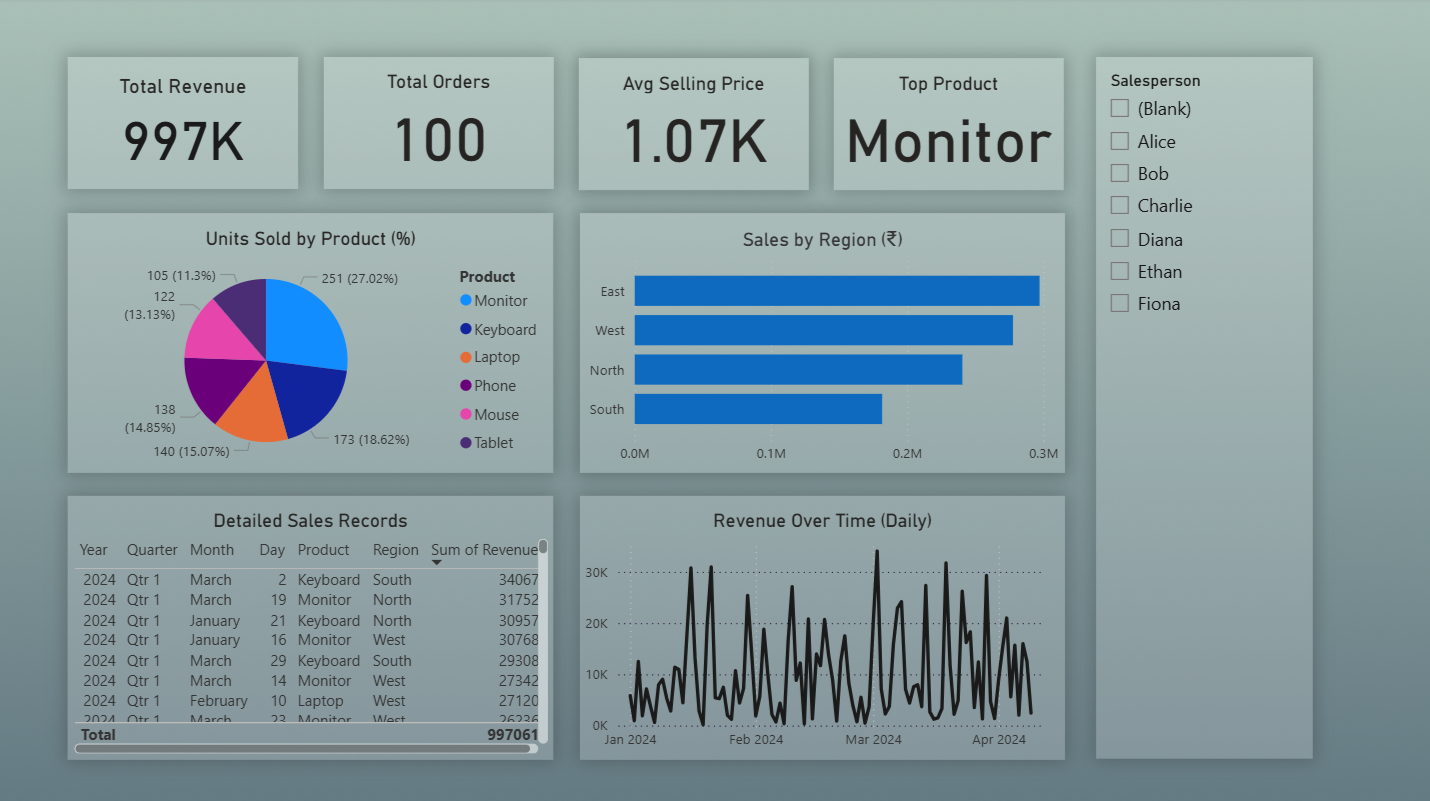

What the dashboard file says about the page in this screenshot:
{"tool":"powerbi","page":{"name":"Page 1","canvas":[1280,720],"ordinal":0},"visuals":[{"type":"clusteredBarChart","title":"Sales by Region (₹)","fields":{"Category":["Sheet1.Region"],"Y":["Sheet1.Revenue"]},"box":[521,192.6,431.9,231.5],"z":0},{"type":"pieChart","title":"Units Sold by Product (%)","fields":{"Category":["Sheet1.Product"],"Y":["Sheet1.UnitsSold"]},"box":[64.6,192.6,433,231.5],"z":1000},{"type":"lineChart","title":"Revenue Over Time (Daily)","fields":{"Category":["Sheet1.OrderDate"],"Y":["Sheet1.Revenue"]},"box":[521,444.2,431.9,234.9],"z":2000},{"type":"tableEx","title":"Detailed Sales Records","fields":{"Values":["Sheet1.OrderDate.Variation.Date Hierarchy.Year","Sheet1.OrderDate.Variation.Date Hierarchy.Quarter","Sheet1.OrderDate.Variation.Date Hierarchy.Month","Sheet1.OrderDate.Variation.Date Hierarchy.Day","Sheet1.Product","Sheet1.Region","Sheet1.Revenue"]},"box":[64.6,444.2,433,234.9],"z":3000},{"type":"card","title":"Total Revenue","fields":{"Values":["Sheet1.Total Revenue"]},"box":[64.6,53.4,205.8,117.4],"z":3500},{"type":"card","title":"Total Orders","fields":{"Values":["Sheet1.Total Orders"]},"box":[292.9,53.8,204.7,117.4],"z":3750},{"type":"card","title":"Avg Selling Price","fields":{"Values":["Sheet1.Avg Selling Price"]},"box":[520,54.2,204.7,117.4],"z":3875},{"type":"card","title":"Top Product","fields":{"Values":["Sheet1.Top Product"]},"box":[747.1,54.6,204.7,117.4],"z":3937},{"type":"slicer","fields":{"Values":["Sheet1.Salesperson"]},"box":[980.7,53.4,192.6,624.5],"z":4000}]}

Visuals, with their boxes in screenshot pixels (x1, y1, x2, y2), scaled from the page's 1280x720 canvas onto the 1430x801 screenshot:
"Sales by Region (₹)" clusteredBarChart: 582,214,1065,472
"Units Sold by Product (%)" pieChart: 72,214,556,472
"Revenue Over Time (Daily)" lineChart: 582,494,1065,755
"Detailed Sales Records" tableEx: 72,494,556,755
"Total Revenue" card: 72,59,302,190
"Total Orders" card: 327,60,556,190
"Avg Selling Price" card: 581,60,810,191
"Top Product" card: 835,61,1063,191
slicer - Sheet1.Salesperson: 1096,59,1311,754
